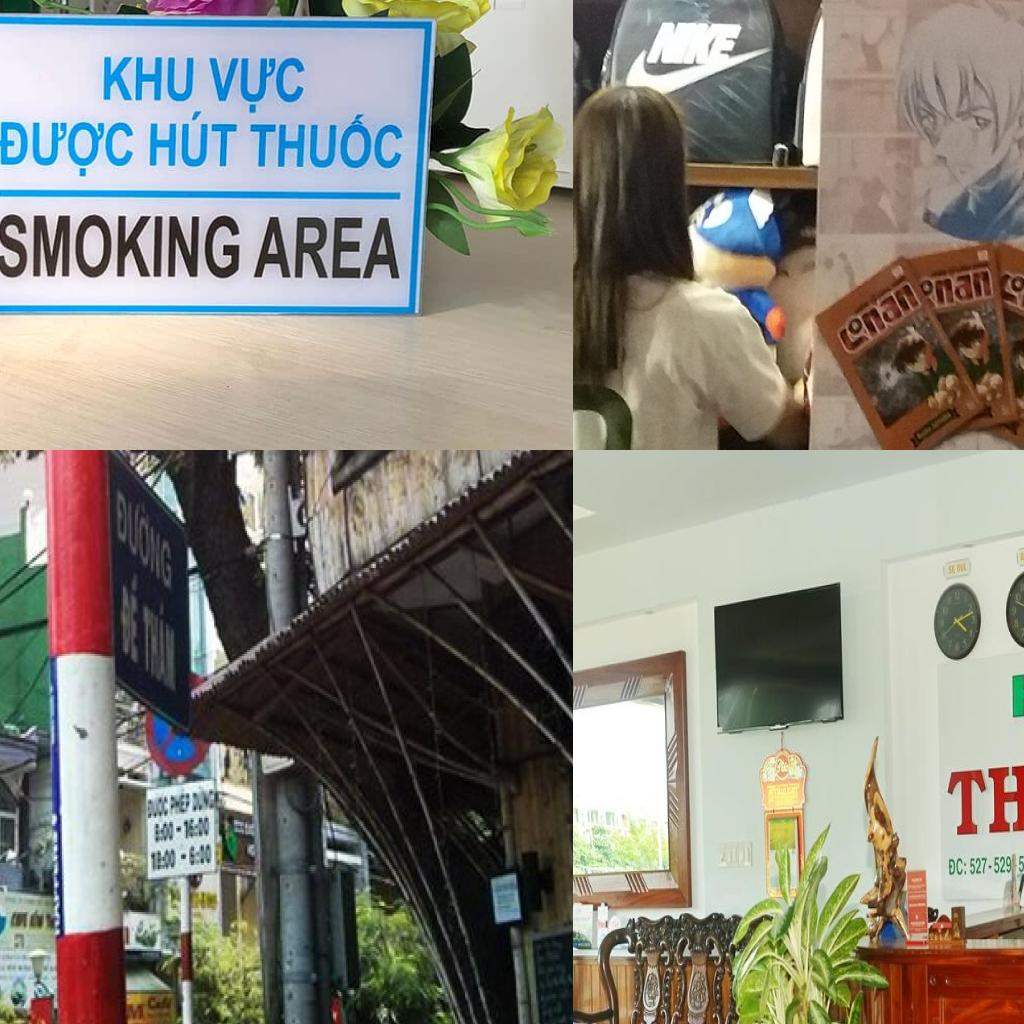text: (0, 212, 241, 282), (249, 113, 405, 173), (0, 117, 136, 179), (115, 470, 174, 596), (207, 55, 307, 116), (946, 759, 1024, 837), (837, 284, 921, 356), (573, 369, 643, 450), (148, 110, 238, 170), (642, 18, 744, 67), (102, 56, 196, 102), (140, 584, 178, 697), (936, 270, 993, 308), (992, 268, 1024, 333), (118, 578, 140, 668), (183, 814, 212, 842), (170, 787, 192, 820), (146, 793, 171, 822), (188, 842, 214, 869), (947, 855, 967, 877), (994, 855, 1013, 877), (126, 1002, 144, 1023), (970, 856, 988, 877), (164, 849, 178, 873), (163, 820, 176, 844), (148, 996, 159, 1012), (1017, 853, 1024, 876), (956, 561, 967, 575), (946, 637, 954, 652), (948, 564, 957, 576), (970, 613, 977, 627), (942, 606, 950, 618), (967, 602, 974, 615), (946, 595, 953, 607), (1019, 546, 1024, 562), (1011, 605, 1017, 618), (964, 594, 969, 607), (942, 629, 947, 642), (1014, 617, 1019, 630), (1019, 582, 1024, 593), (1020, 627, 1024, 640)
